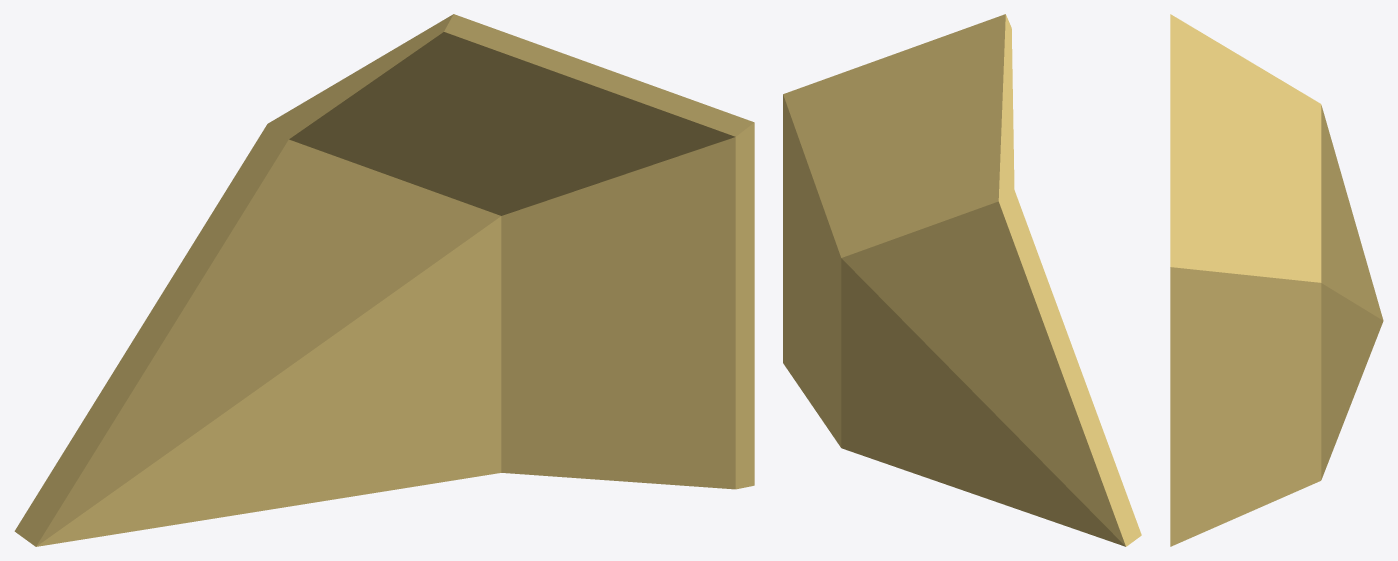
File: Fragment010.fbx
3 renders of one model, left to right at view 1: azimuth 30°, elevation 25°; view 2: azimuth 150°, elevation 25°; view 3: azimuth 270°, elevation 25°, orthographic. The views are drawn at different scales.
Parts seen in each view (by area): view 1: SatelliteFrag.010; view 2: SatelliteFrag.010; view 3: SatelliteFrag.010.
Boxes of the visible parts, x1,y1,x2,y2 form: SatelliteFrag.010: [14, 14, 754, 546]; SatelliteFrag.010: [783, 14, 1141, 546]; SatelliteFrag.010: [1170, 14, 1383, 546].
Bounding box in the file's own units: 86.46 × 74.86 × 34.43.
